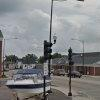Boat: (7, 64, 71, 95)
